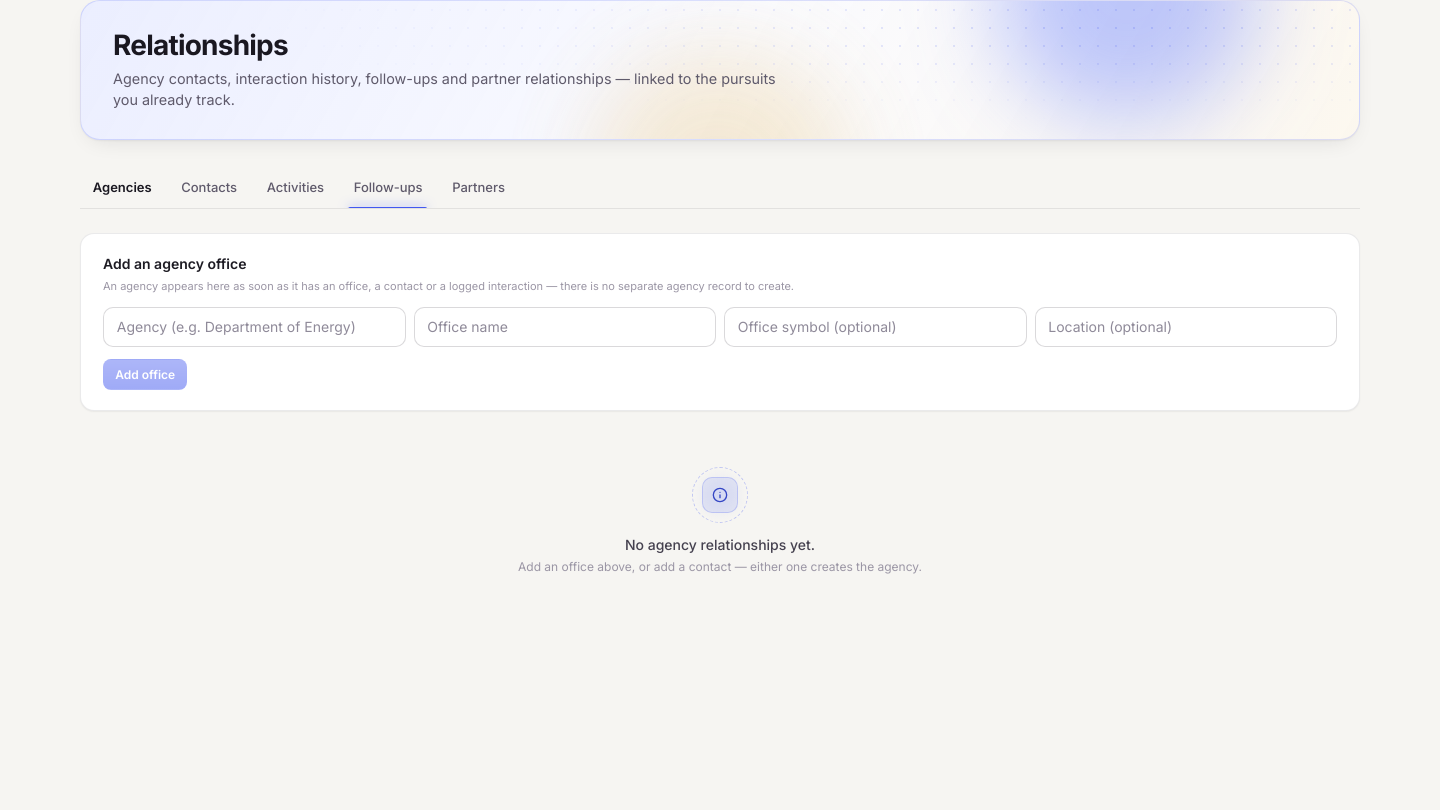
Test: CRM page › says follow-ups reuse the existing reminder scan
The width and height of the screenshot is (1440, 810).
Click the button "Follow-ups".
click(388, 188)  # box [341, 168, 435, 208]
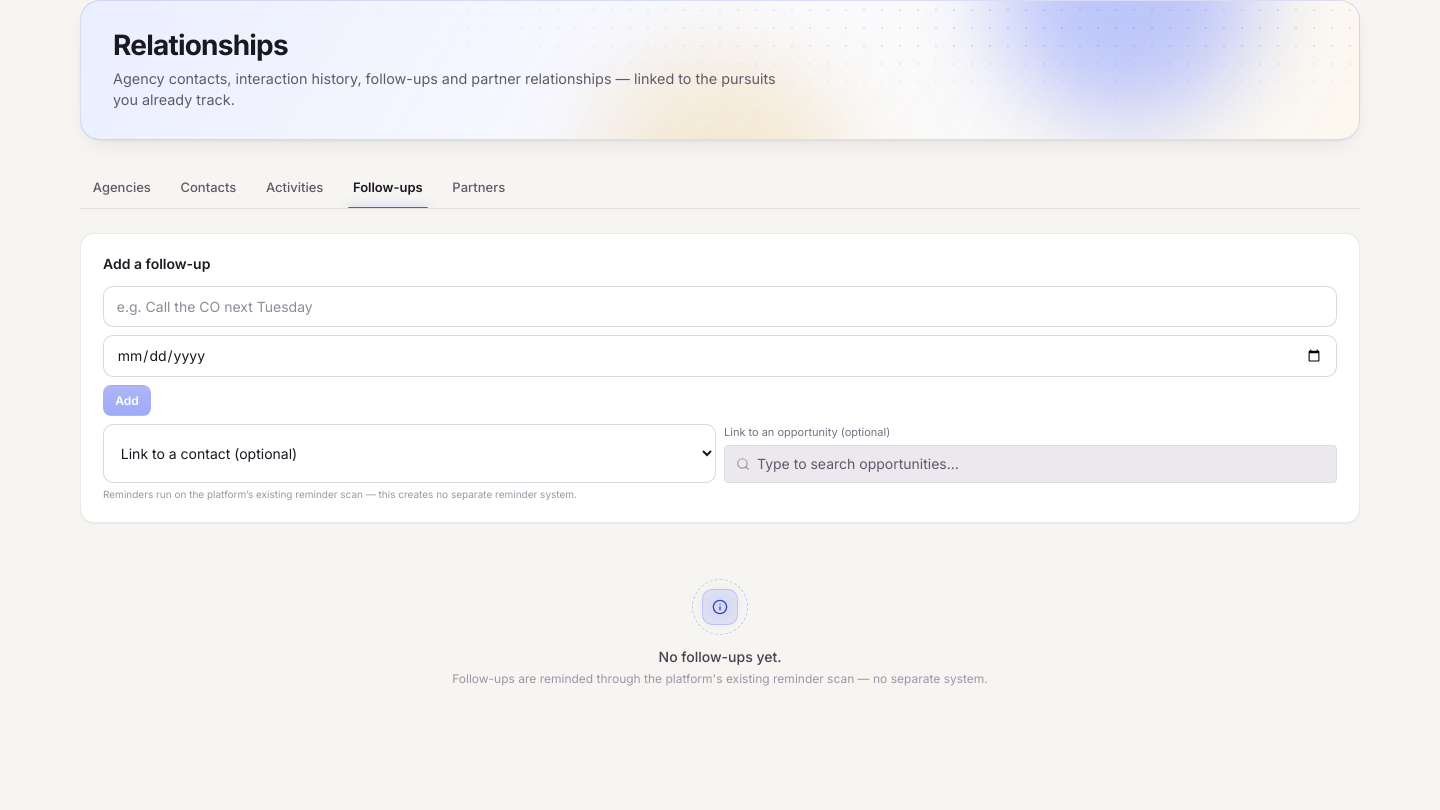
Now the text "existing reminder scan" is shown, box [103, 488, 577, 500]
